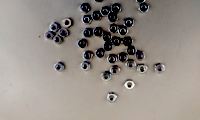nut: (139, 3, 150, 13), (111, 4, 122, 14), (124, 18, 135, 28), (125, 80, 136, 90), (107, 93, 118, 103), (101, 72, 112, 82), (110, 66, 121, 76), (107, 54, 118, 64), (123, 37, 134, 47), (119, 26, 129, 37), (109, 24, 120, 34), (100, 7, 111, 17), (80, 3, 90, 14), (62, 18, 73, 28), (155, 64, 165, 74), (138, 64, 148, 74), (136, 52, 146, 62), (118, 53, 128, 63), (126, 60, 136, 70), (108, 13, 118, 23), (53, 35, 63, 45), (44, 31, 54, 41), (49, 22, 59, 32), (58, 28, 68, 38), (81, 61, 91, 71), (78, 39, 88, 49), (83, 51, 93, 61), (96, 49, 106, 59), (83, 28, 93, 38), (92, 12, 102, 22), (93, 27, 103, 37), (102, 33, 112, 43), (113, 37, 123, 47), (104, 41, 114, 51), (54, 63, 64, 72), (82, 15, 92, 24), (127, 48, 136, 55), (136, 1, 146, 4), (94, 1, 104, 2)
